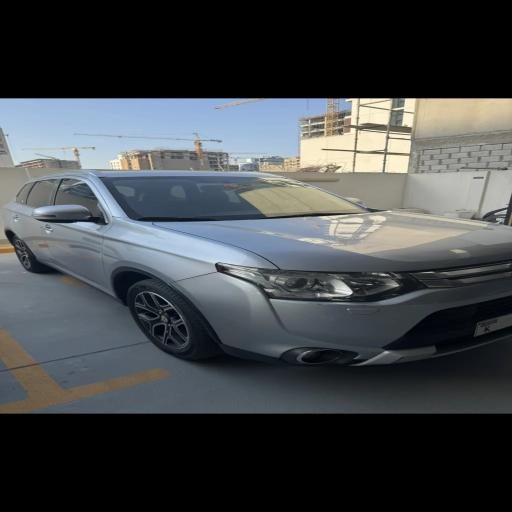license-plates: (475, 313, 512, 337)
